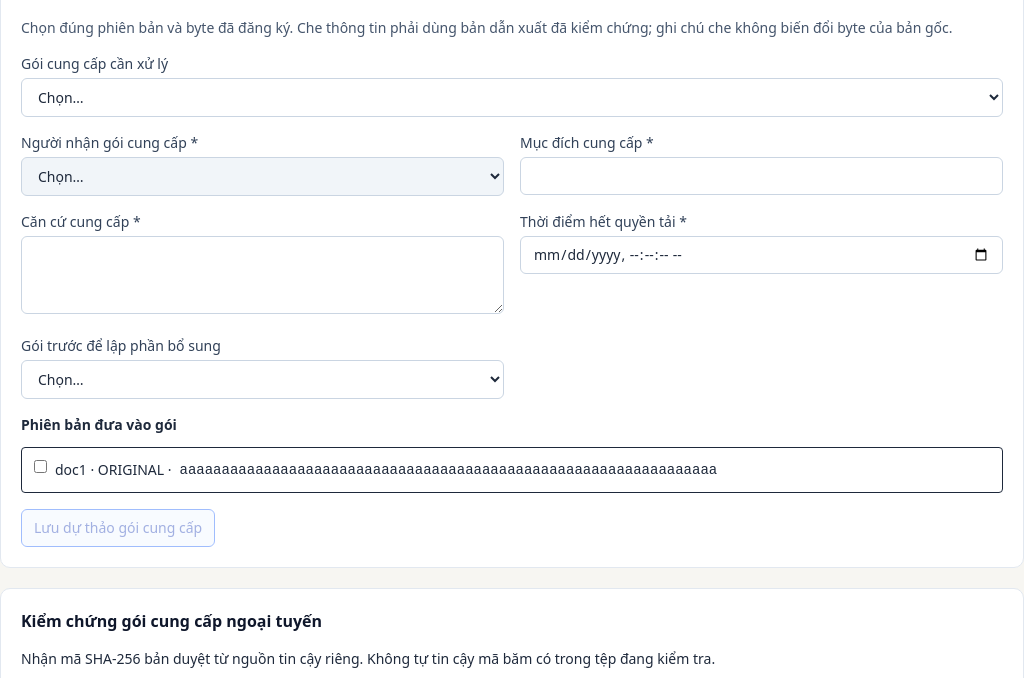
it: blocks self-review and incomplete hidden-source packet approval
Select "Exact-version disclosure · v2 · packet1" in the dropdown labelled "Gói cung cấp cần xử lý" at [512, 98], box [21,78,1003,117]
(page scrolled)
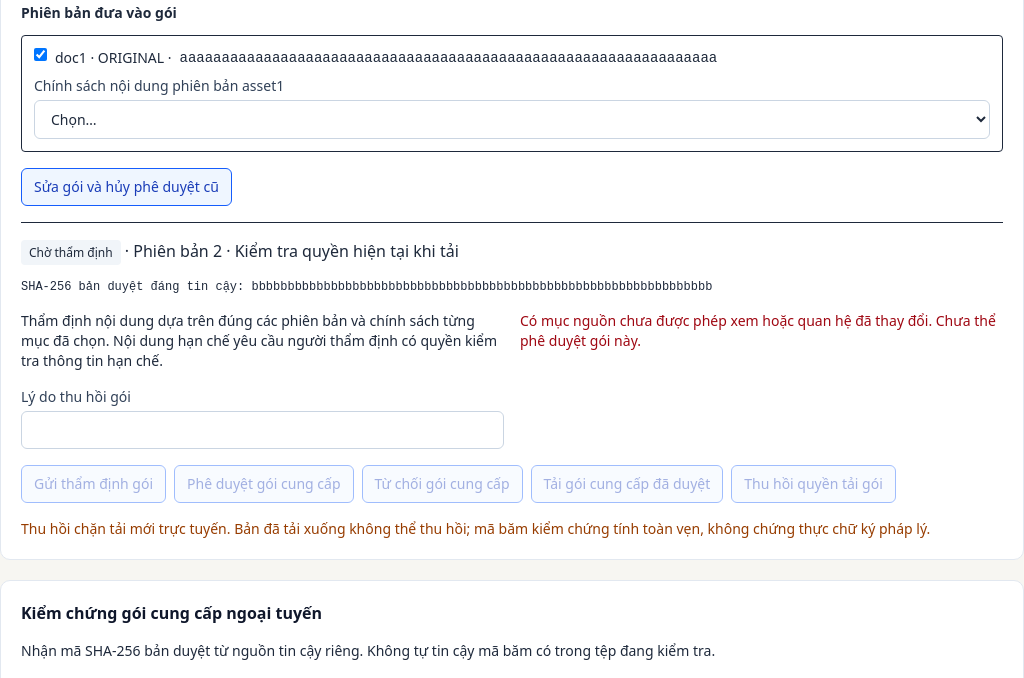
expect the button "Phê duyệt gói cung cấp" is disabled: met, box [174,465,354,503]
expect the message shows "Chưa thể phê duyệt": met, box [520,311,996,350]
